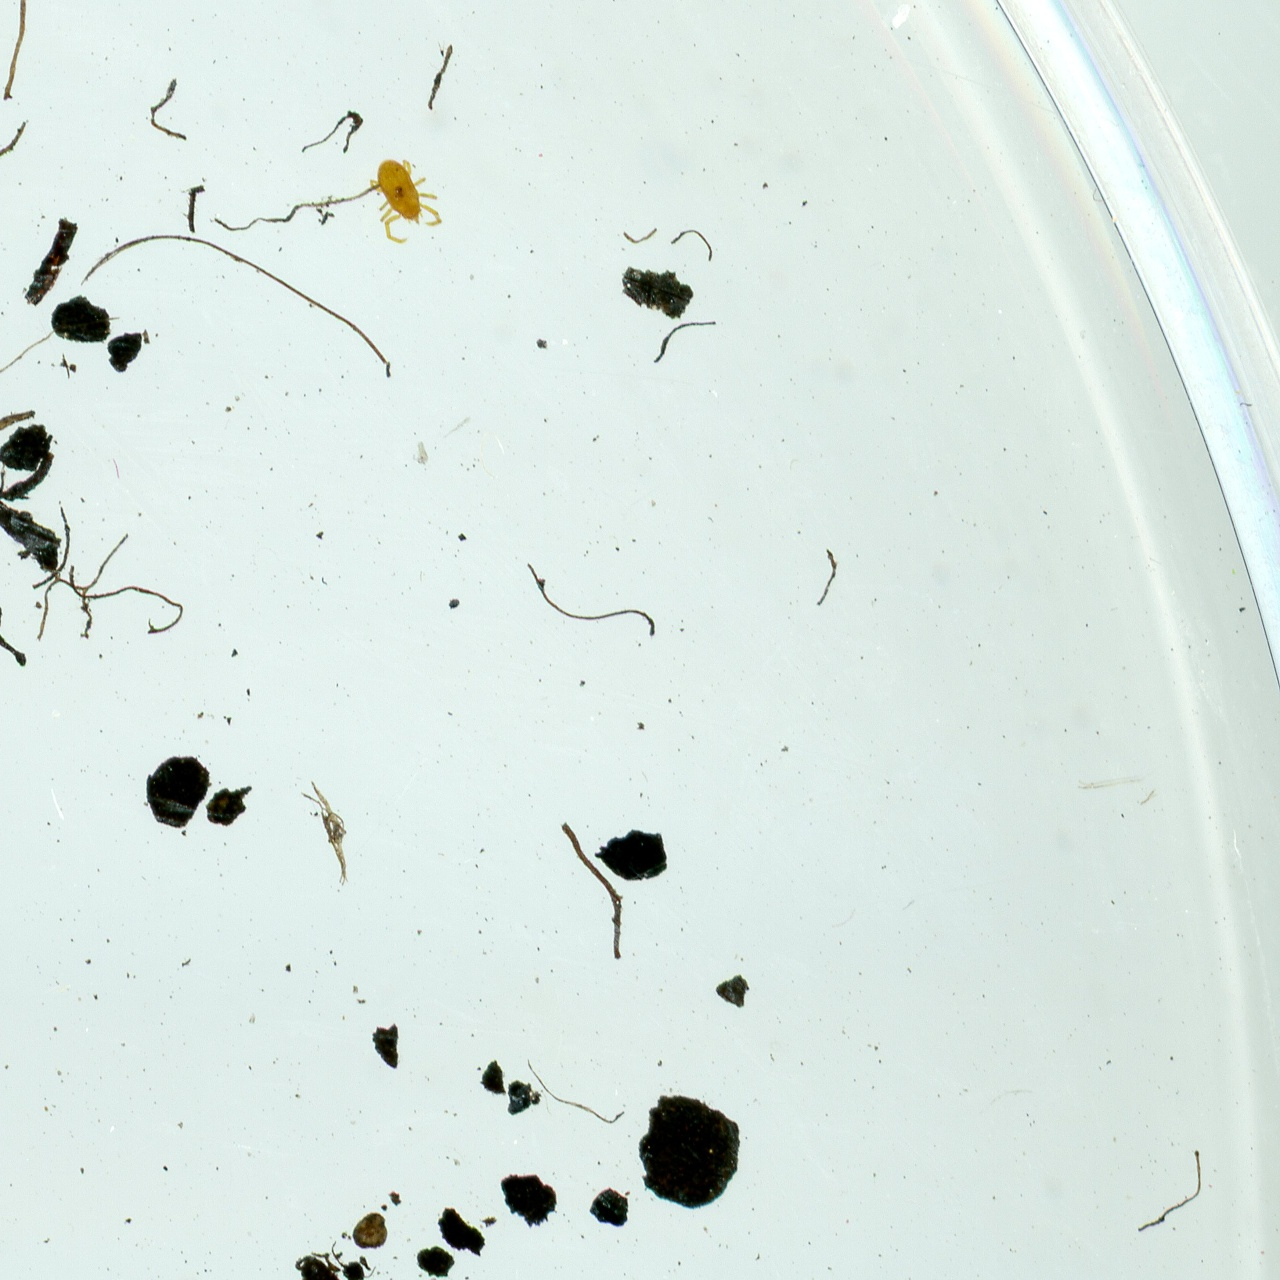arthropod: (366, 156, 445, 247)
